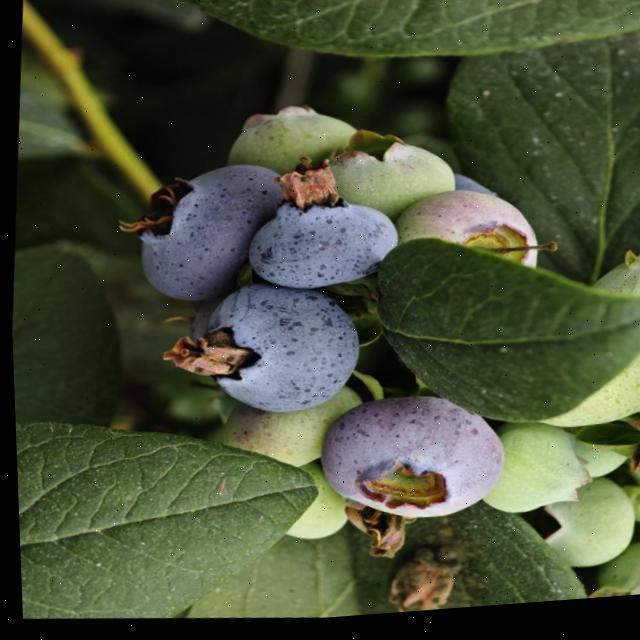RipeBlueBerry: (128, 155, 288, 313), (187, 280, 361, 423), (243, 187, 399, 300)
Semi-RipeBlueBerry: (317, 391, 504, 534)
UnripeBlueBerry: (387, 188, 546, 290), (317, 129, 461, 228), (223, 101, 357, 195), (519, 475, 631, 582), (474, 423, 585, 527)
